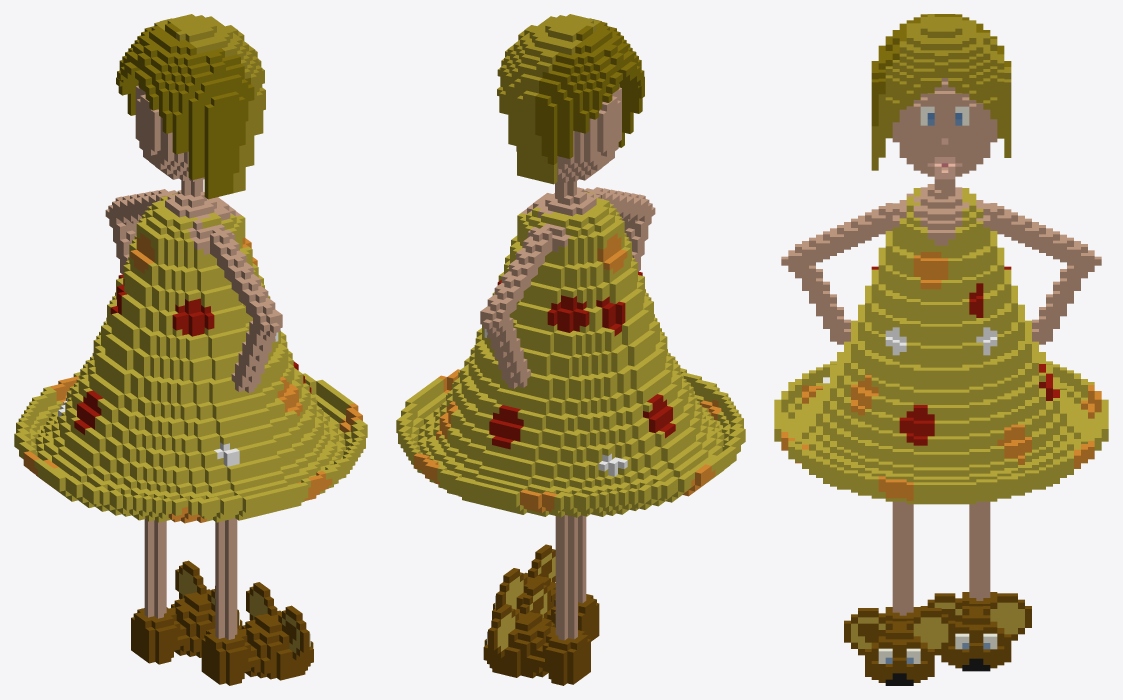
Rendered from maman.obj.
3 renders of one model, left to right at view 1: azimuth 30°, elevation 25°; view 2: azimuth 150°, elevation 25°; view 3: azimuth 270°, elevation 25°, orthographic. The views are drawn at different scales.
Size of the model in its own units: 48 by 98 by 48.
1 material, 1 textured.
